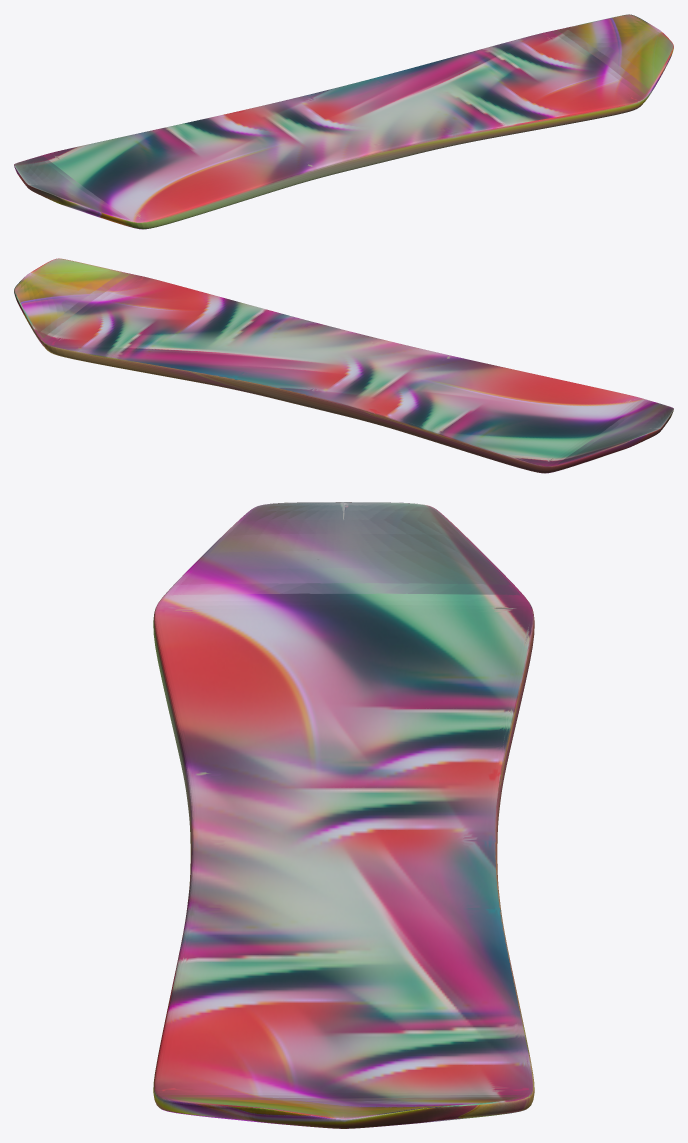
File: snowboard.fbx
3 views of the same model, one above another, from view 1: azimuth 30°, elevation 25°; view 2: azimuth 150°, elevation 25°; view 3: azimuth 270°, elevation 25° (orthographic). The views are drawn at different scales.
Visible parts, largest first — view 1: Cube; view 2: Cube; view 3: Cube.
Part boxes in pixels (x1=…): Cube: x1=14, y1=14, x2=673, y2=229; Cube: x1=14, y1=258, x2=673, y2=473; Cube: x1=153, y1=502, x2=534, y2=1128.
Bounding box in the file's own units: 1032 × 49.54 × 269.
